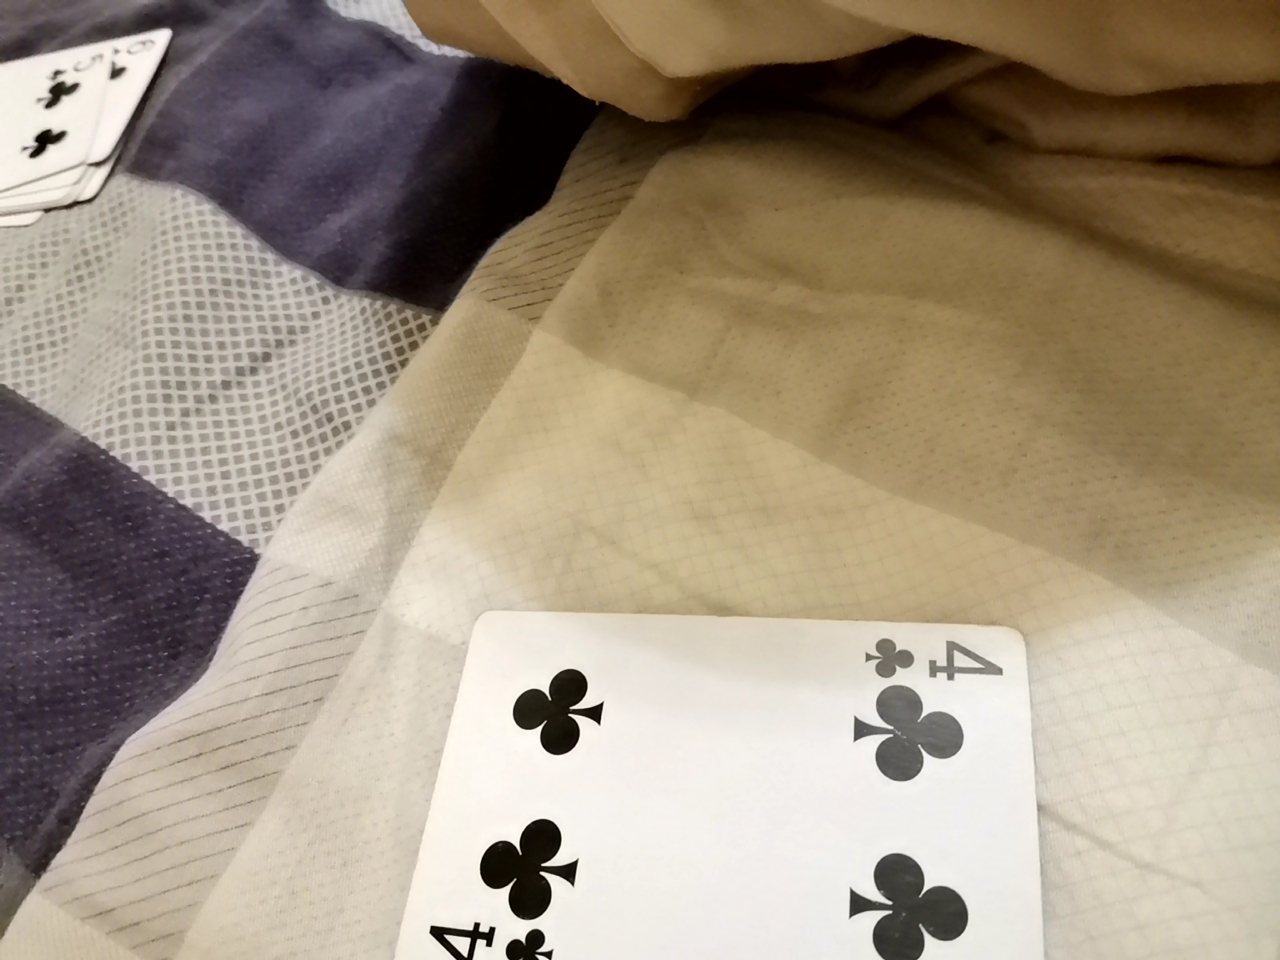mh 4: (398, 608, 1051, 957)
